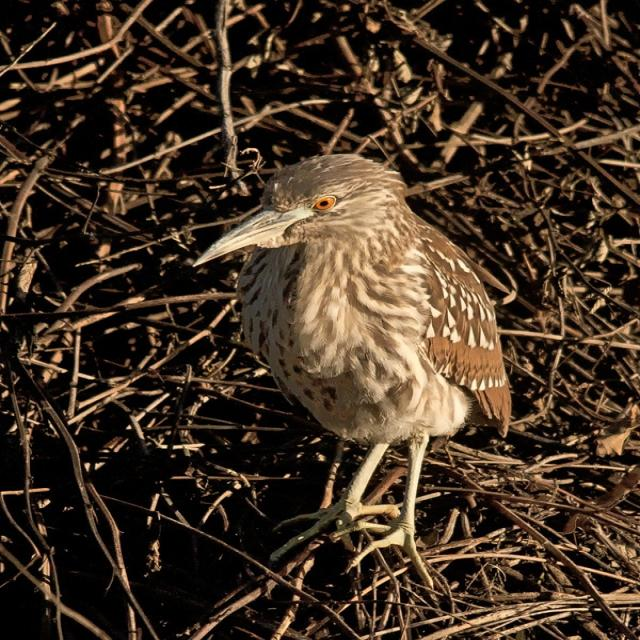bird: (190, 148, 524, 443)
